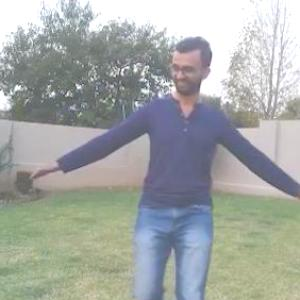land: (40, 38, 288, 299)
